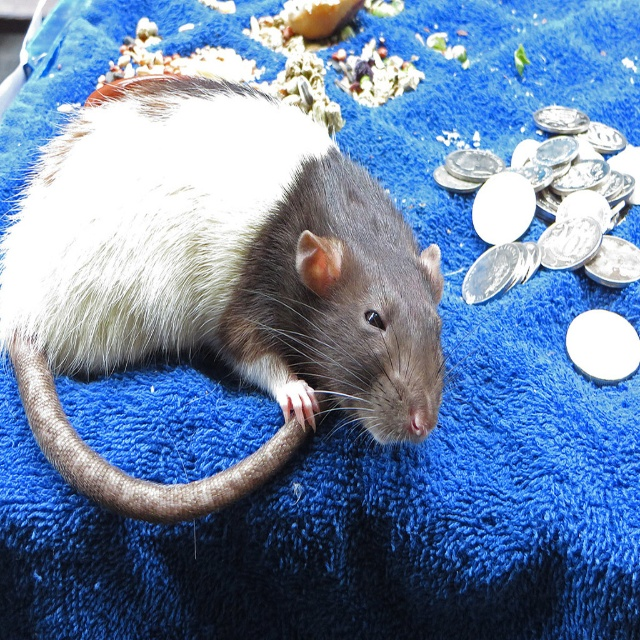Mouse: (0, 75, 475, 518)
